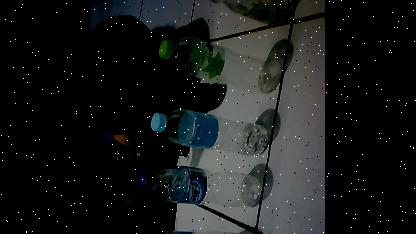Plastic Bottle: (155, 34, 285, 94), (150, 106, 274, 156), (134, 163, 264, 209), (173, 0, 297, 26), (129, 220, 257, 234)
